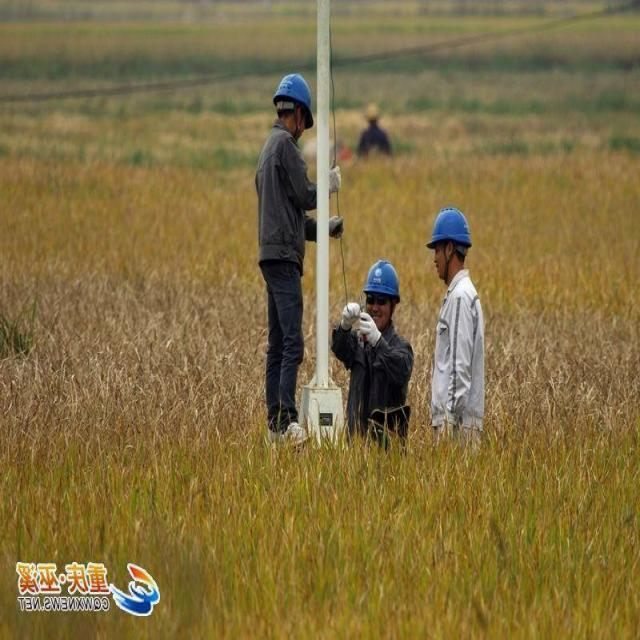face_nomask: (361, 296, 394, 332), (432, 244, 454, 283)
glasses: (365, 292, 391, 310)
hand_glove: (338, 292, 360, 332), (327, 208, 349, 247), (325, 158, 345, 197), (358, 316, 378, 346)
head_helmet: (429, 209, 470, 239), (274, 77, 314, 104), (367, 260, 396, 292)
person: (258, 80, 318, 448), (429, 208, 478, 427), (346, 260, 400, 424)
